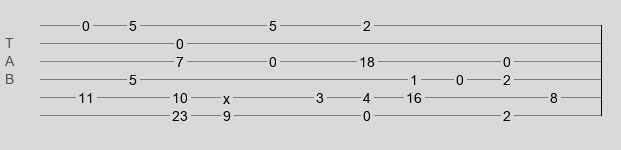0: (82, 18, 90, 28), (176, 36, 184, 46), (269, 54, 277, 64), (363, 108, 371, 118), (456, 72, 464, 82), (503, 54, 511, 64)
1: (410, 72, 418, 82)
10: (172, 90, 188, 100)
11: (78, 90, 94, 100)
16: (406, 90, 422, 100)
18: (359, 54, 375, 64)
2: (363, 18, 371, 28), (503, 72, 511, 82), (503, 108, 511, 118)
23: (172, 108, 188, 118)
3: (316, 90, 324, 100)
4: (363, 90, 371, 100)
5: (129, 18, 137, 28), (129, 72, 137, 82), (269, 18, 277, 28)
7: (176, 54, 184, 64)
8: (550, 90, 558, 100)
9: (223, 108, 231, 118)
x: (223, 91, 230, 99)
